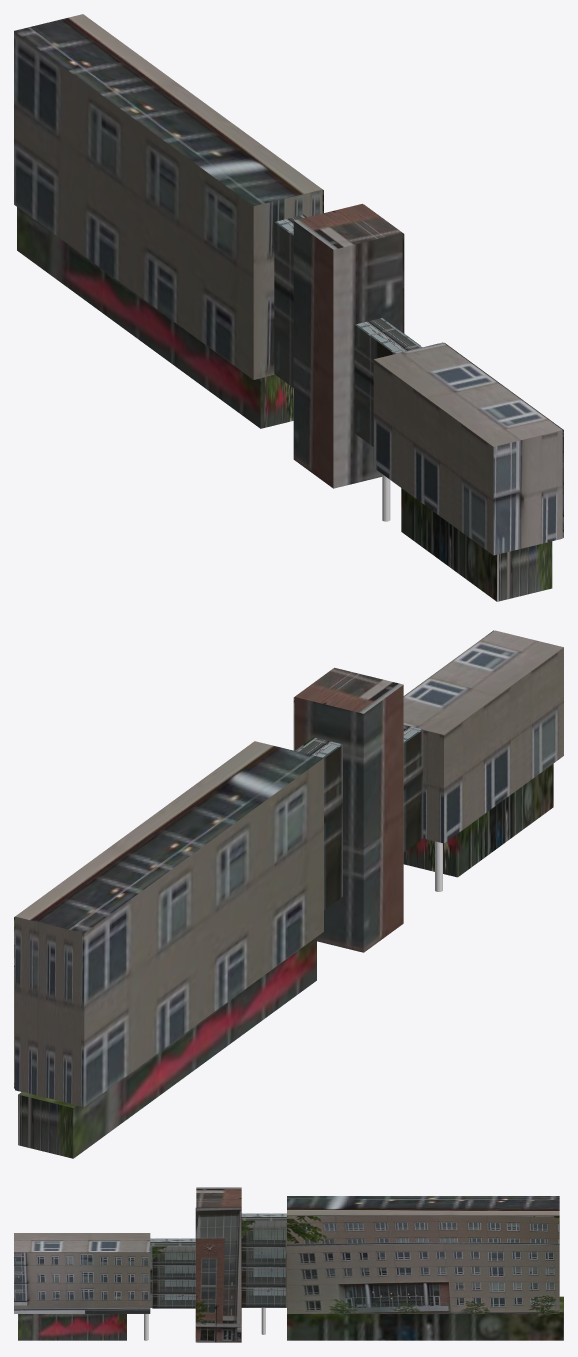
Rendered from livi_apt_B.glb.
The picture shows the model from 3 angles, top to bottom: view 1: azimuth 30°, elevation 25°; view 2: azimuth 150°, elevation 25°; view 3: azimuth 270°, elevation 25°; orthographic projection. The views are drawn at different scales.
Parts seen in each view (by area): view 1: Cube.007, Cube.009, Cube.003, Cube.008, Cube.006, Cube.004, Cube.002; view 2: Cube.007, Cube.009, Cube.003, Cube.008, Cube.006, Cube.002, Cube.004; view 3: Plane.002, Plane.001, Cube.008, Plane.004, Cube.007, Plane.003, Cube.006, Plane.005, Cube.009, Cube.003, Cube.004, Cube.002.
Boxes of the visible parts, x1=… form: Cube.007: x1=14, y1=14, x2=322, y2=379; Cube.009: x1=373, y1=342, x2=562, y2=555; Cube.003: x1=293, y1=203, x2=402, y2=488; Cube.008: x1=17, y1=207, x2=293, y2=428; Cube.006: x1=401, y1=488, x2=552, y2=601; Cube.004: x1=354, y1=318, x2=421, y2=446; Cube.002: x1=274, y1=215, x2=304, y2=387; Cube.007: x1=15, y1=741, x2=323, y2=1106; Cube.009: x1=403, y1=630, x2=563, y2=843; Cube.003: x1=294, y1=667, x2=403, y2=952; Cube.008: x1=18, y1=937, x2=316, y2=1158; Cube.006: x1=403, y1=763, x2=553, y2=877; Cube.002: x1=297, y1=738, x2=342, y2=910; Cube.004: x1=403, y1=725, x2=423, y2=852; Plane.002: x1=287, y1=1216, x2=559, y2=1313; Plane.001: x1=14, y1=1252, x2=150, y2=1313; Cube.008: x1=287, y1=1296, x2=563, y2=1340; Plane.004: x1=195, y1=1207, x2=241, y2=1342; Cube.007: x1=287, y1=1196, x2=559, y2=1313; Plane.003: x1=241, y1=1220, x2=286, y2=1307; Cube.006: x1=18, y1=1314, x2=126, y2=1340; Plane.005: x1=152, y1=1246, x2=195, y2=1308; Cube.009: x1=14, y1=1233, x2=150, y2=1252; Cube.003: x1=196, y1=1187, x2=241, y2=1342; Cube.004: x1=150, y1=1238, x2=195, y2=1307; Cube.002: x1=241, y1=1213, x2=286, y2=1307.
Size of the model in its own units: 6.08 by 19.81 by 72.31.
Materials: 15 (12 with a texture image).
